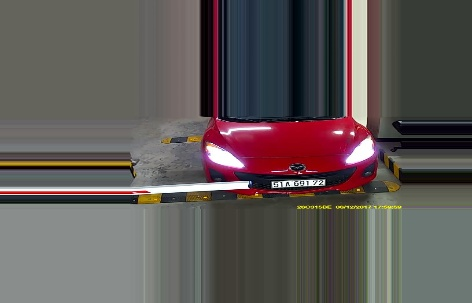plate: (267, 175, 328, 189)
